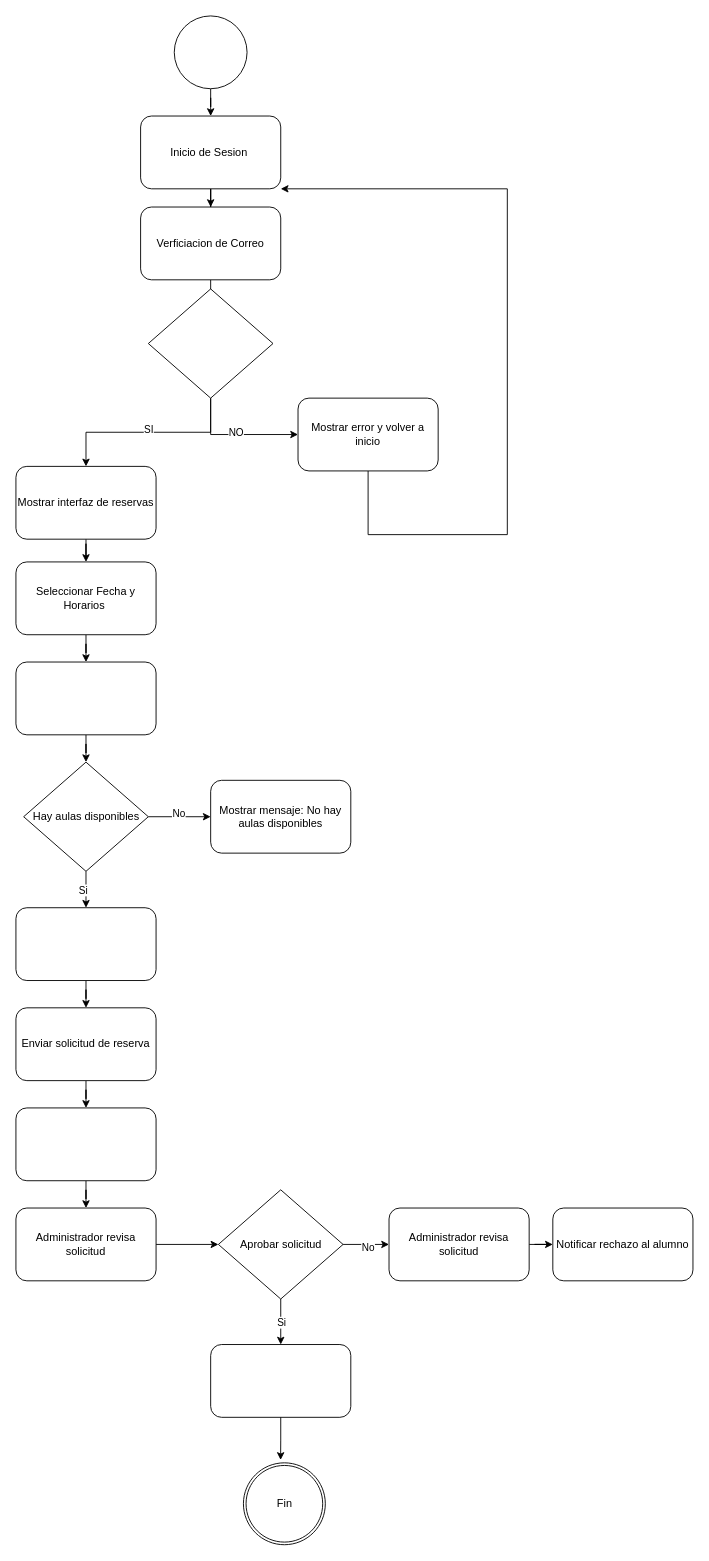
The diagram is 709 pixels wide and 1561 high, and some of its shapes have lost their labels. The centre of each missing label's shape, as x and y in pixels:
Correo Valido: [210,343]
Filtrar aulas disponibles: [85,698]
Inicio: [210,52]
Notificar al administrador: [85,1144]
Notificar aprobacion al alumno: [280,1380]
Seleccionar aula: [85,944]
